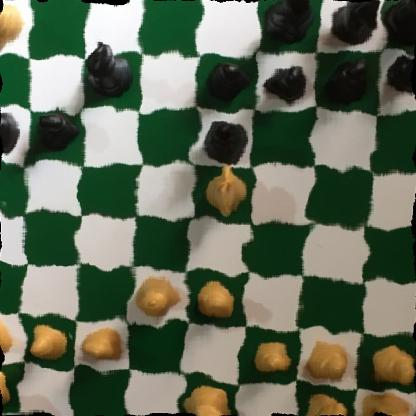black-bishop: (258, 0, 311, 50), (201, 114, 246, 167)
black-king: (80, 34, 136, 97)
black-knight: (329, 0, 386, 45)
black-pawn: (316, 57, 374, 111), (262, 61, 313, 107), (208, 58, 249, 104), (385, 46, 416, 100), (34, 114, 75, 154), (0, 106, 17, 155)
black-rook: (379, 0, 416, 48)
white-bishop: (0, 0, 24, 53)
white-king: (183, 380, 233, 416)
white-knight: (199, 158, 248, 212), (298, 388, 352, 416)
white-pawn: (363, 340, 416, 390), (300, 337, 352, 386), (245, 331, 294, 376), (194, 279, 242, 323), (25, 320, 70, 365), (82, 327, 129, 363), (0, 311, 17, 356)
white-queen: (128, 268, 181, 317)
white-rook: (355, 387, 416, 416), (0, 362, 18, 416)
